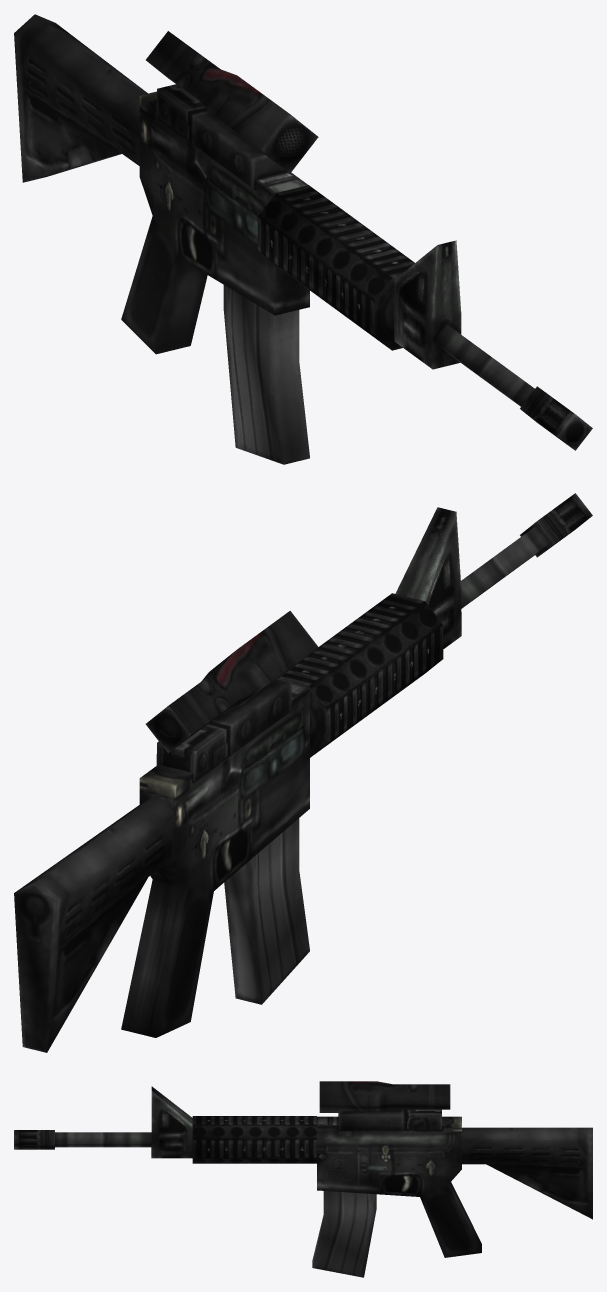
3 renders of one model, top to bottom at view 1: azimuth 30°, elevation 25°; view 2: azimuth 150°, elevation 25°; view 3: azimuth 270°, elevation 25°, orthographic. The views are drawn at different scales.
Visible parts, largest first — view 1: M4A1, M4A1_magazine; view 2: M4A1, M4A1_magazine; view 3: M4A1, M4A1_magazine.
Boxes of the visible parts, x1,y1,x2,y2 form: M4A1: [14, 14, 592, 450]; M4A1_magazine: [223, 285, 309, 464]; M4A1: [14, 493, 592, 1052]; M4A1_magazine: [224, 818, 309, 1004]; M4A1: [14, 1081, 592, 1257]; M4A1_magazine: [312, 1191, 376, 1277].
Bounding box in the file's own units: 0.0622 × 0.309 × 0.8395.
1 material, 1 textured.
